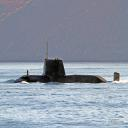submarine: (16, 42, 121, 83)
